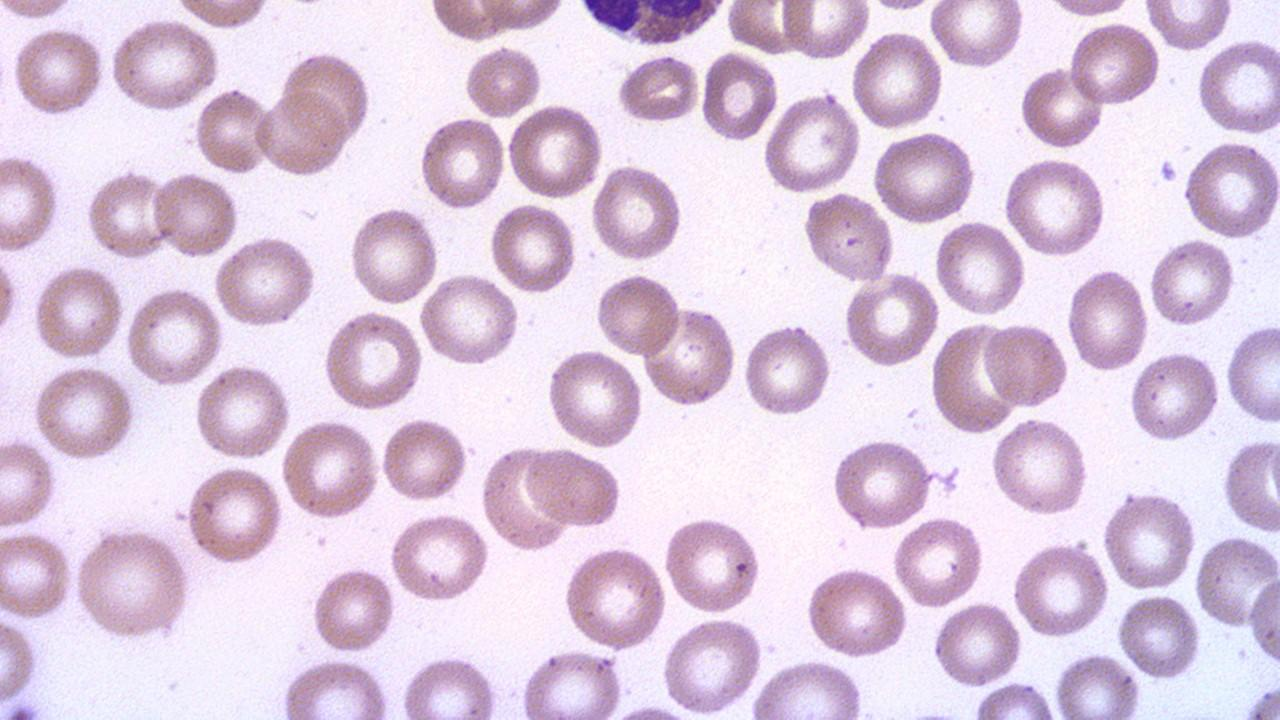RBC: (73, 527, 193, 642), (562, 544, 668, 651), (319, 308, 426, 412), (279, 416, 382, 522), (108, 16, 221, 112), (1002, 155, 1107, 258), (184, 462, 284, 568), (479, 442, 573, 554), (989, 415, 1091, 518), (928, 320, 1018, 436), (543, 348, 645, 450), (660, 514, 763, 615), (660, 614, 764, 714), (30, 364, 138, 460), (829, 434, 938, 529), (191, 362, 294, 462), (212, 234, 320, 329), (761, 93, 861, 195), (124, 286, 223, 389), (804, 562, 908, 660), (641, 304, 737, 410), (871, 130, 978, 225), (416, 272, 524, 366), (1181, 138, 1280, 240), (848, 28, 945, 132), (1010, 539, 1110, 639), (1101, 489, 1199, 591), (385, 512, 493, 604), (842, 271, 942, 369), (505, 102, 604, 200), (1064, 266, 1152, 375), (590, 162, 684, 264), (740, 320, 833, 421), (348, 204, 440, 306), (1126, 348, 1222, 445), (31, 264, 126, 362), (800, 190, 898, 285), (932, 220, 1027, 318), (10, 25, 106, 121), (890, 514, 986, 610), (282, 45, 374, 144), (1194, 34, 1280, 138), (488, 199, 578, 298), (522, 442, 623, 530), (417, 114, 506, 212), (254, 89, 349, 180), (1066, 19, 1164, 107), (84, 167, 174, 262), (930, 599, 1024, 689), (1148, 235, 1236, 329), (379, 414, 469, 505), (982, 318, 1069, 411), (310, 562, 396, 656), (1195, 534, 1277, 632), (152, 170, 240, 261), (593, 270, 682, 359), (1016, 63, 1105, 152), (1116, 590, 1202, 682), (700, 49, 780, 144), (518, 648, 626, 718), (280, 654, 395, 718), (193, 86, 272, 176), (748, 657, 866, 717), (0, 527, 75, 621), (396, 653, 503, 717), (928, 1, 1024, 70), (462, 42, 543, 121), (0, 152, 62, 255), (614, 51, 700, 125), (1050, 651, 1142, 716), (1222, 435, 1280, 536), (1225, 321, 1279, 425), (0, 435, 58, 530), (782, 1, 872, 62), (724, 1, 813, 56), (1144, 1, 1234, 51), (427, 0, 511, 44), (0, 609, 37, 708), (970, 678, 1058, 719), (1247, 564, 1279, 672), (168, 0, 275, 30), (474, 0, 570, 33), (1043, 0, 1137, 20), (0, 0, 79, 23)
WBC: (564, 1, 741, 48)
